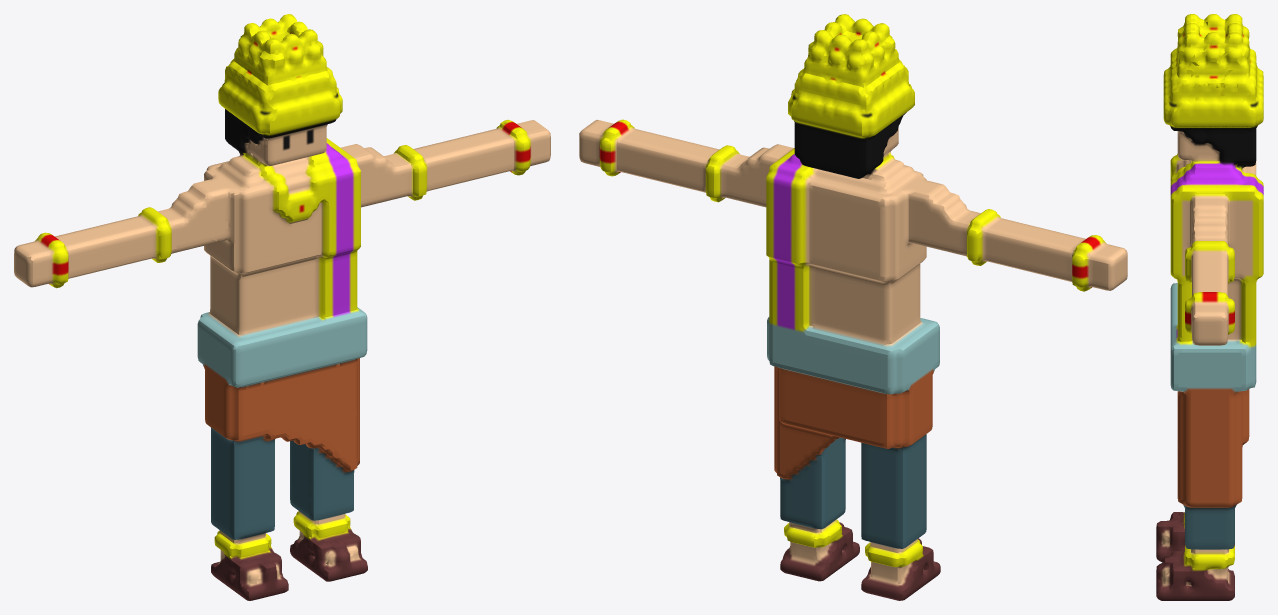
File: RajaSunda.fbx
3 views of the same model, side by side, from view 1: azimuth 30°, elevation 25°; view 2: azimuth 150°, elevation 25°; view 3: azimuth 270°, elevation 25° (orthographic). The views are drawn at different scales.
Visible parts, largest first — view 1: Object; view 2: Object; view 3: Object.
Part boxes in pixels (x1,y1,x2,y2): Object: (14,14,550,600); Object: (579,14,1127,600); Object: (1156,14,1263,600).
Bounding box in the file's own units: 81 × 80.06 × 14.18.
Materials: 1 (1 with a texture image).
